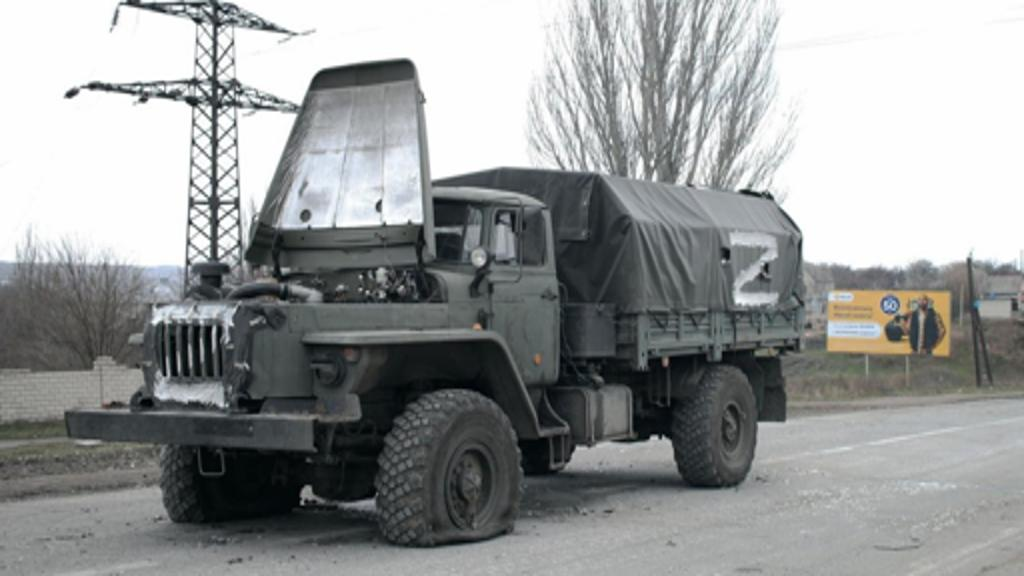TRUCK: (60, 58, 804, 546)
